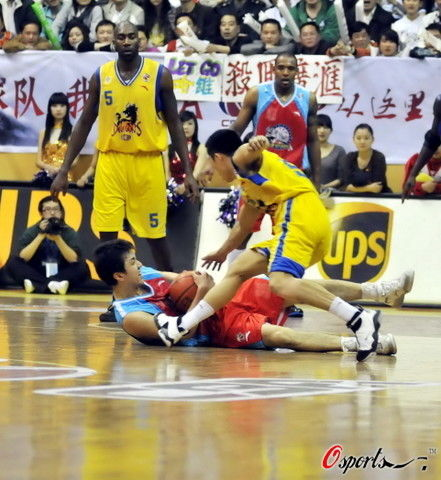10+: (1, 1, 441, 366)
down: (82, 234, 414, 369)
